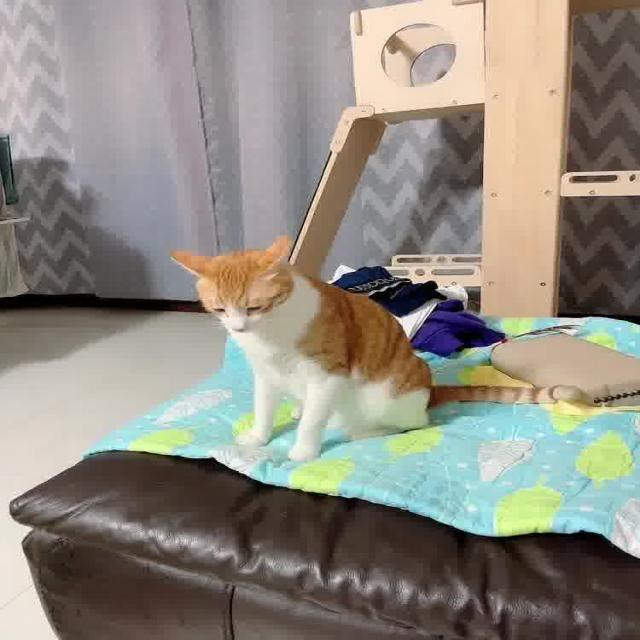cat: (166, 232, 595, 461)
